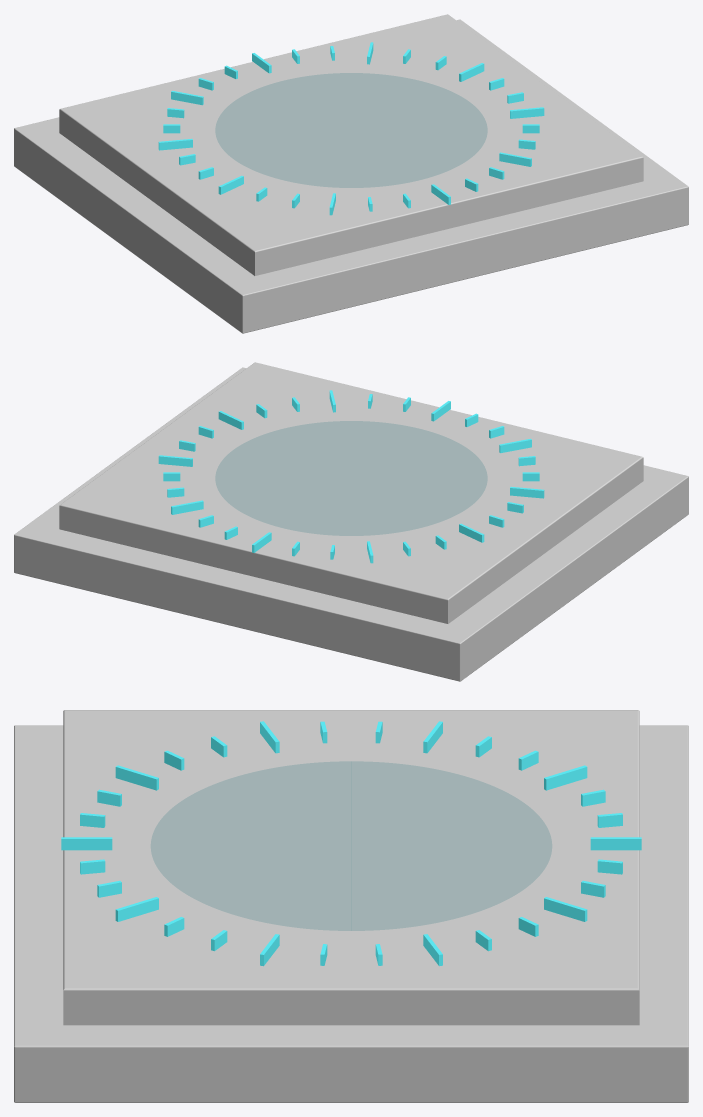
Rendered from device7.glb.
The picture shows the model from 3 angles, top to bottom: view 1: azimuth 30°, elevation 25°; view 2: azimuth 150°, elevation 25°; view 3: azimuth 270°, elevation 25°; orthographic projection. The views are drawn at different scales.
Visible parts, largest first — view 1: 立方体, 圆盘1, 克隆2; view 2: 立方体, 圆盘1, 克隆2; view 3: 立方体, 圆盘1, 克隆2.
Part boxes in pixels (x1=…): 立方体: x1=14, y1=14, x2=688, y2=333; 圆盘1: x1=215, y1=73, x2=487, y2=187; 克隆2: x1=158, y1=42, x2=544, y2=215; 立方体: x1=14, y1=362, x2=688, y2=681; 圆盘1: x1=215, y1=421, x2=487, y2=535; 克隆2: x1=158, y1=390, x2=544, y2=563; 立方体: x1=14, y1=710, x2=688, y2=1102; 圆盘1: x1=151, y1=761, x2=551, y2=930; 克隆2: x1=61, y1=721, x2=641, y2=966.
Size of the model in its own units: 22.34 by 3.39 by 19.83.
